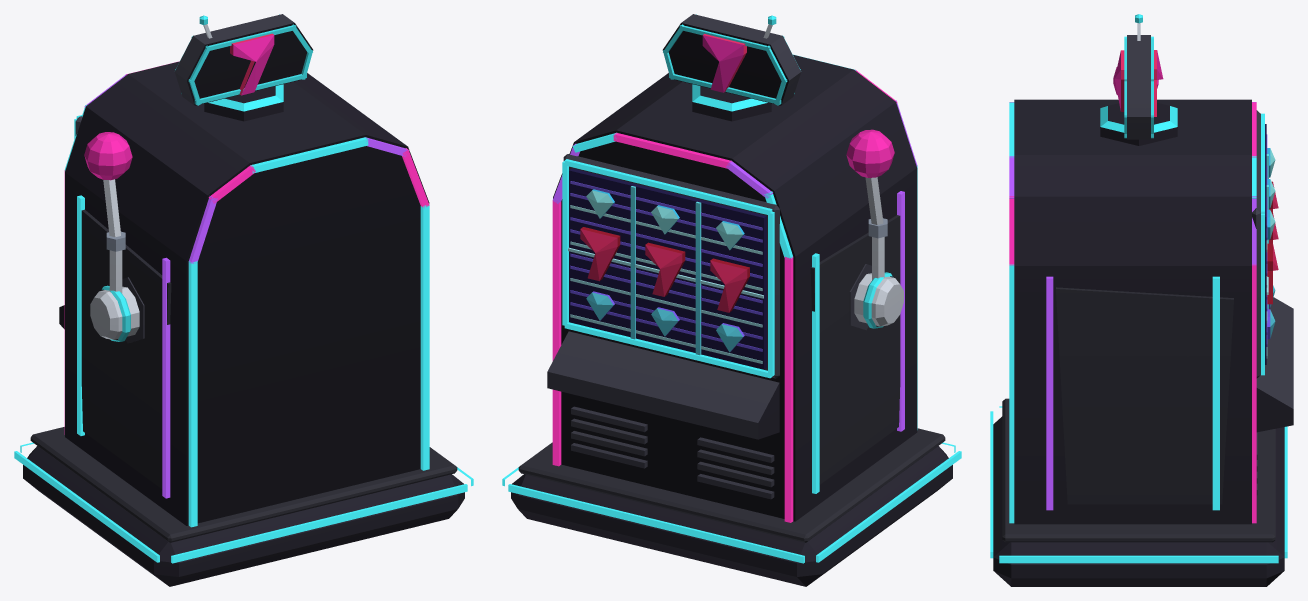
The model's file is NeonFortuneMachine.glb.
The picture shows the model from 3 angles, left to right: view 1: azimuth 30°, elevation 25°; view 2: azimuth 150°, elevation 25°; view 3: azimuth 270°, elevation 25°; orthographic projection. The views are drawn at different scales.
Visible parts, largest first — view 1: Cabinet, Base, NeonStrips, Topper, Lever; view 2: Cabinet, Screen, Base, NeonStrips, Topper, Lever; view 3: Cabinet, Base, NeonStrips, Topper, Screen.
Part boxes in pixels (x1,y1,x2,y2): Cabinet: (59,61,429,525); Base: (23,427,464,586); NeonStrips: (14,61,473,563); Topper: (174,14,313,121); Lever: (84,132,139,341); Cabinet: (547,55,917,521); Screen: (568,168,766,369); Base: (511,428,952,586); NeonStrips: (502,54,961,563); Topper: (662,14,801,121); Lever: (846,129,903,328); Cabinet: (1014,99,1293,524); Base: (993,398,1284,586); NeonStrips: (990,102,1287,563); Topper: (1100,14,1177,145); Screen: (1265,124,1278,364).
Bounding box in the file's own units: 6 × 9.05 × 5.1.
2 materials, 2 textured.
